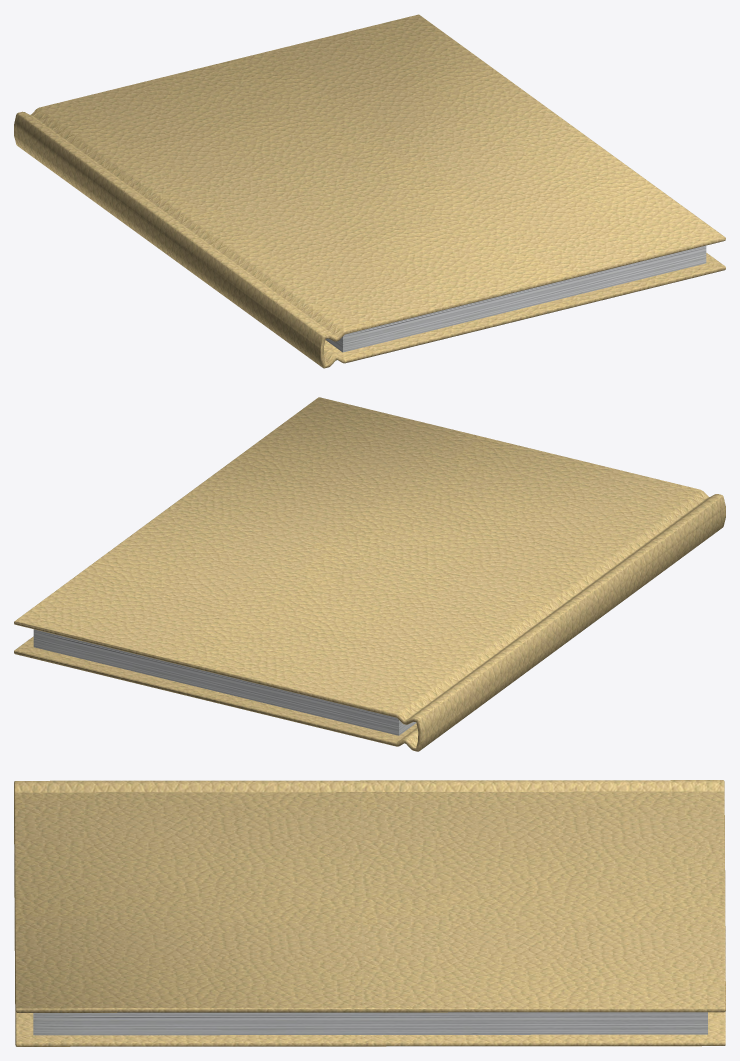
Rendered from Notebook.FBX.
3 renders of one model, top to bottom at view 1: azimuth 30°, elevation 25°; view 2: azimuth 150°, elevation 25°; view 3: azimuth 270°, elevation 25°, orthographic. The views are drawn at different scales.
Parts seen in each view (by area): view 1: notebook; view 2: notebook; view 3: notebook.
Boxes of the visible parts, bbox=[...] form: notebook: bbox=[14, 14, 725, 368]; notebook: bbox=[14, 397, 725, 751]; notebook: bbox=[14, 780, 725, 1046].
Bounding box in the file's own units: 16.47 × 1.28 × 21.42.
